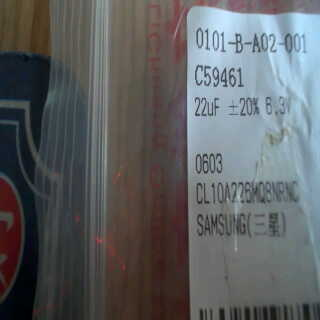22uF: (192, 92, 223, 122)
